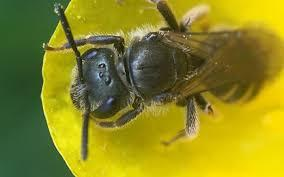Lasioglossum: (38, 0, 280, 144)
